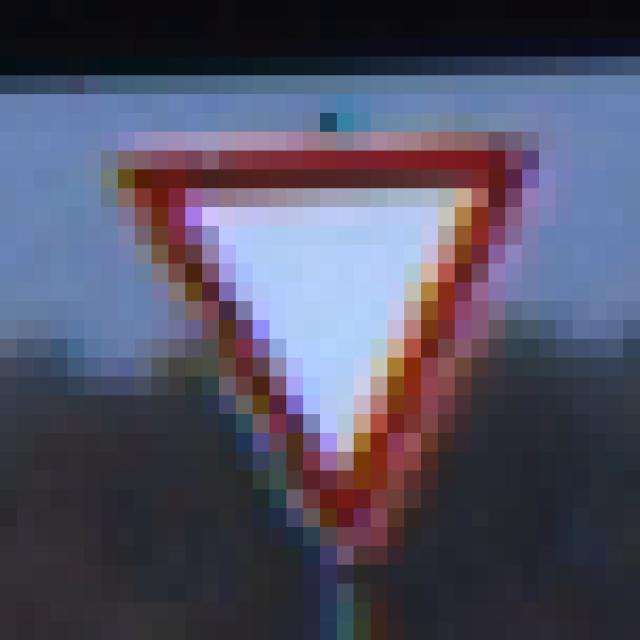Give Way: (85, 95, 557, 547)
